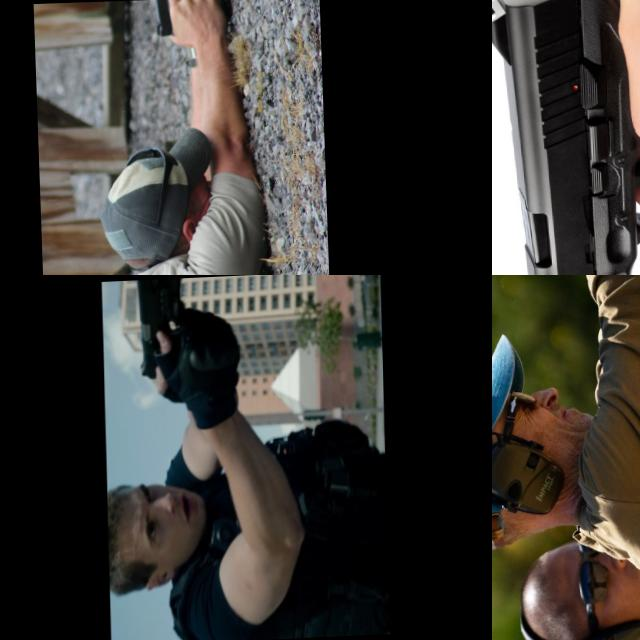handgun: (492, 0, 640, 275), (130, 277, 201, 382), (492, 275, 594, 333), (141, 0, 198, 52)
